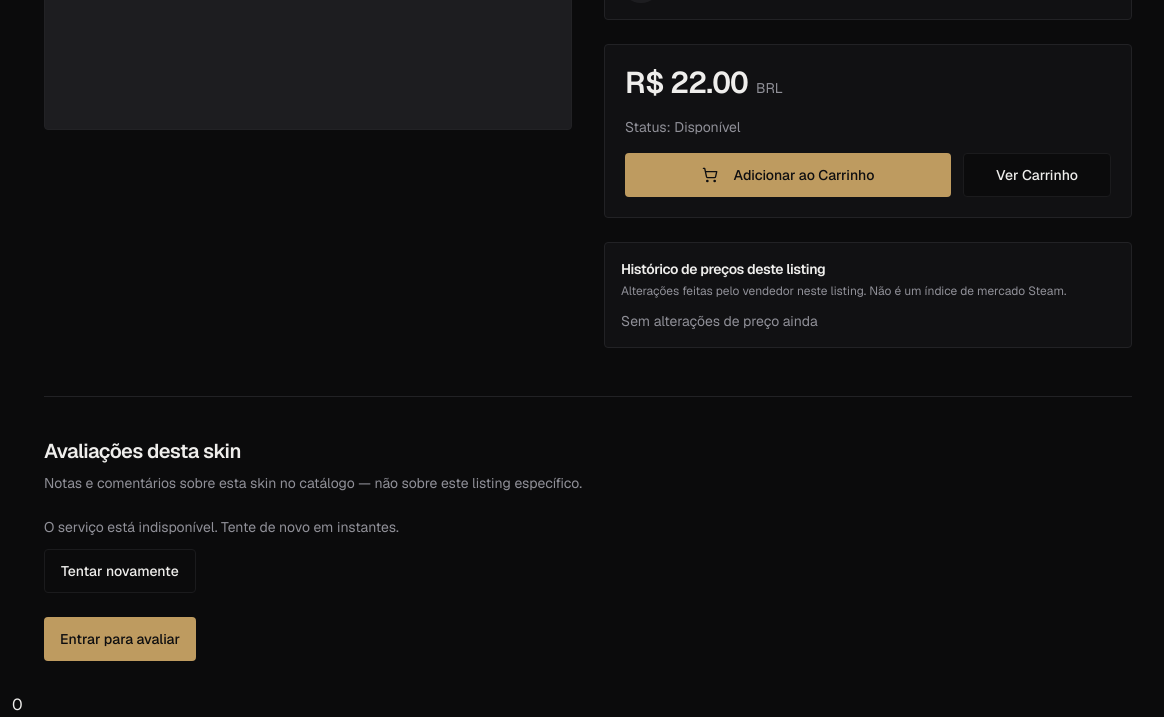
Test: ListingDetail › retries a failed reviews list without inventing seller review aggregation
(page scrolled)
Click the button "Tentar novamente": (120, 571) top-left (44, 549), bottom-right (196, 593)
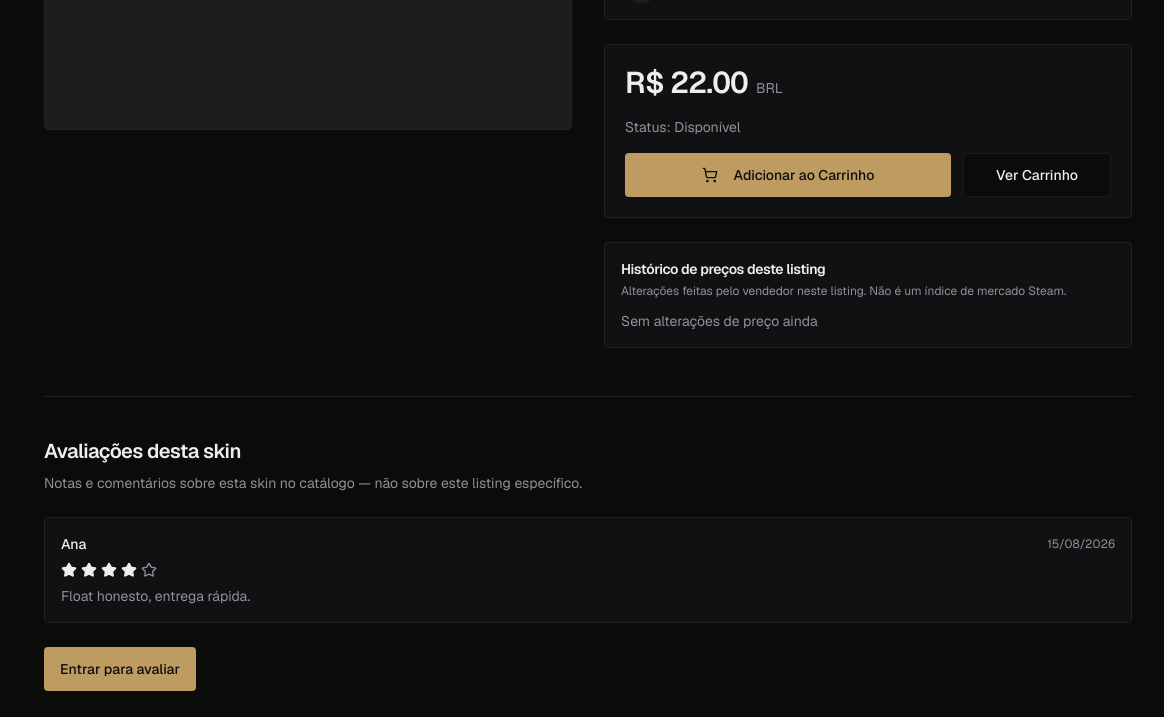
Expected: the text "Ana" is shown, top-left (61, 534), bottom-right (86, 554)
